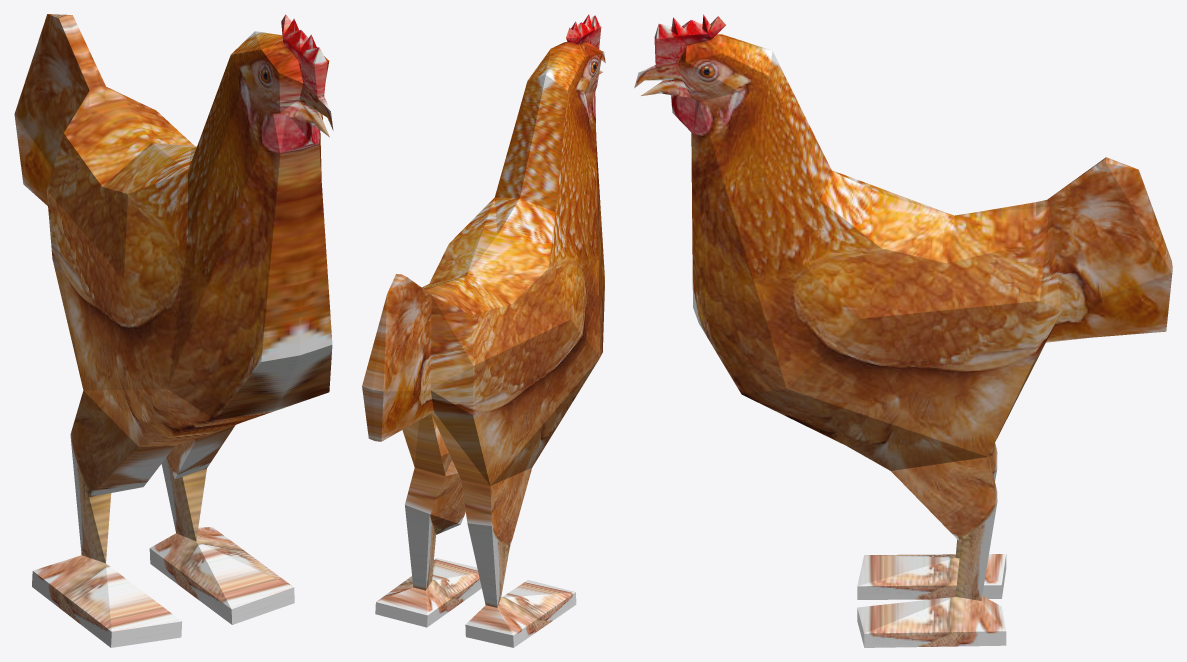
File: chicken.fbx
3 views of the same model, side by side, from view 1: azimuth 30°, elevation 25°; view 2: azimuth 150°, elevation 25°; view 3: azimuth 270°, elevation 25° (orthographic). The views are drawn at different scales.
Parts seen in each view (by area): view 1: Cube; view 2: Cube; view 3: Cube.
Part boxes in pixels (x1,y1,x2,y2): Cube: [14, 14, 333, 647]; Cube: [362, 14, 605, 647]; Cube: [634, 14, 1172, 647].
Bounding box in the file's own units: 11 × 38.73 × 31.68.
